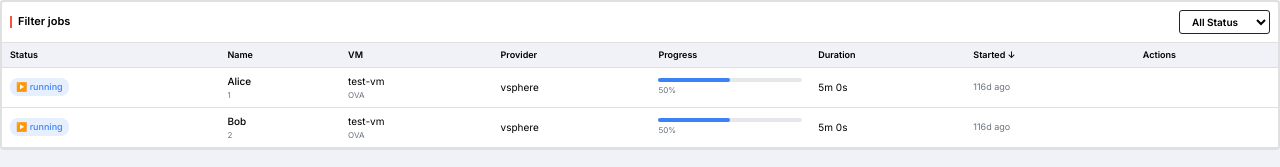
it: JobsTable › toggles sort direction when clicking same header twice
// First click - ascending
Click the column heading "Name": x=280, y=55 [219,43,340,67]
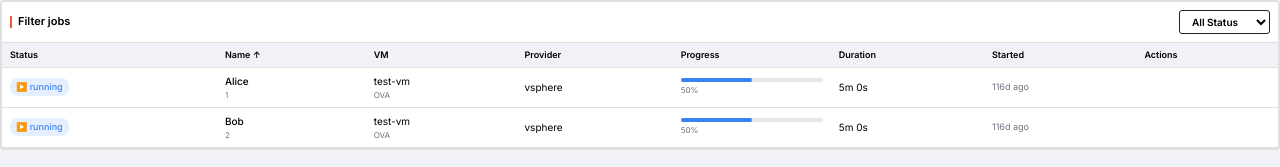
Check: the column heading "Name ↑" is shown
// Second click - descending
Click the column heading "Name ↑": x=291, y=55 [217,43,366,67]
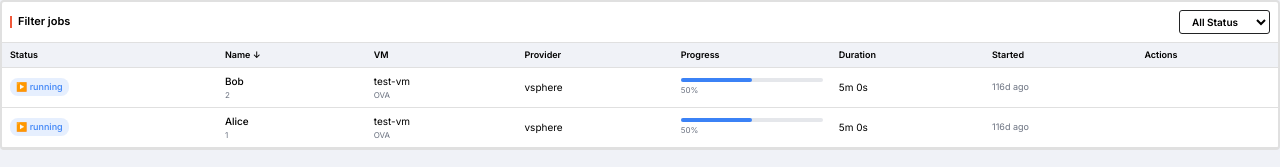
Check: the column heading "Name ↓" is shown, box [217,43,366,67]
